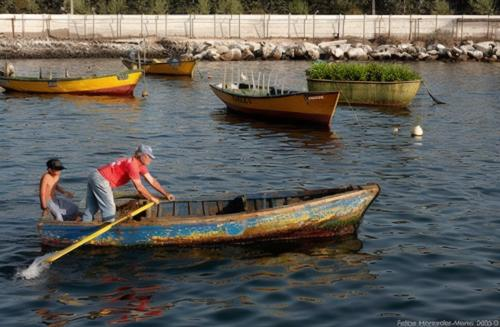boat: (40, 182, 381, 265), (209, 75, 354, 129), (2, 65, 150, 99), (121, 53, 200, 79)
person: (81, 146, 176, 224), (41, 160, 81, 221)
person/hand: (150, 197, 160, 205), (64, 191, 74, 199), (166, 194, 174, 203), (41, 207, 50, 215)
person/head: (135, 144, 152, 166), (47, 159, 61, 176)
pottedplant: (307, 62, 419, 106)
